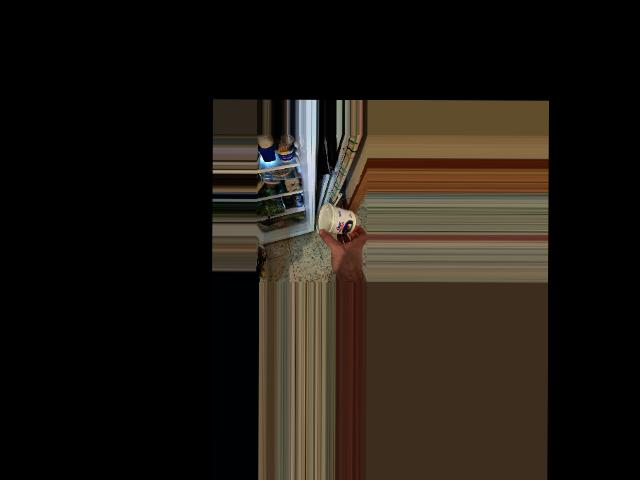cotage: (316, 202, 357, 240)
